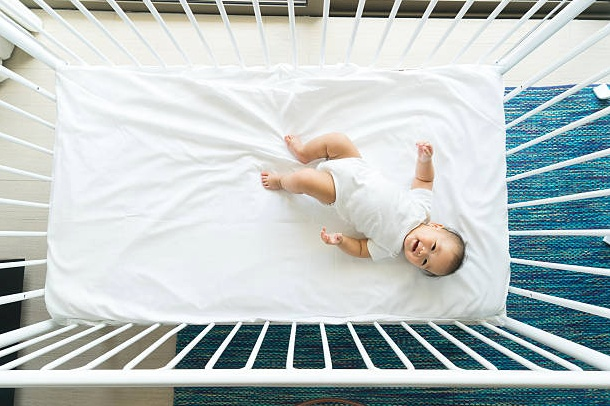baby: (261, 133, 464, 275)
crib: (0, 0, 609, 387)
